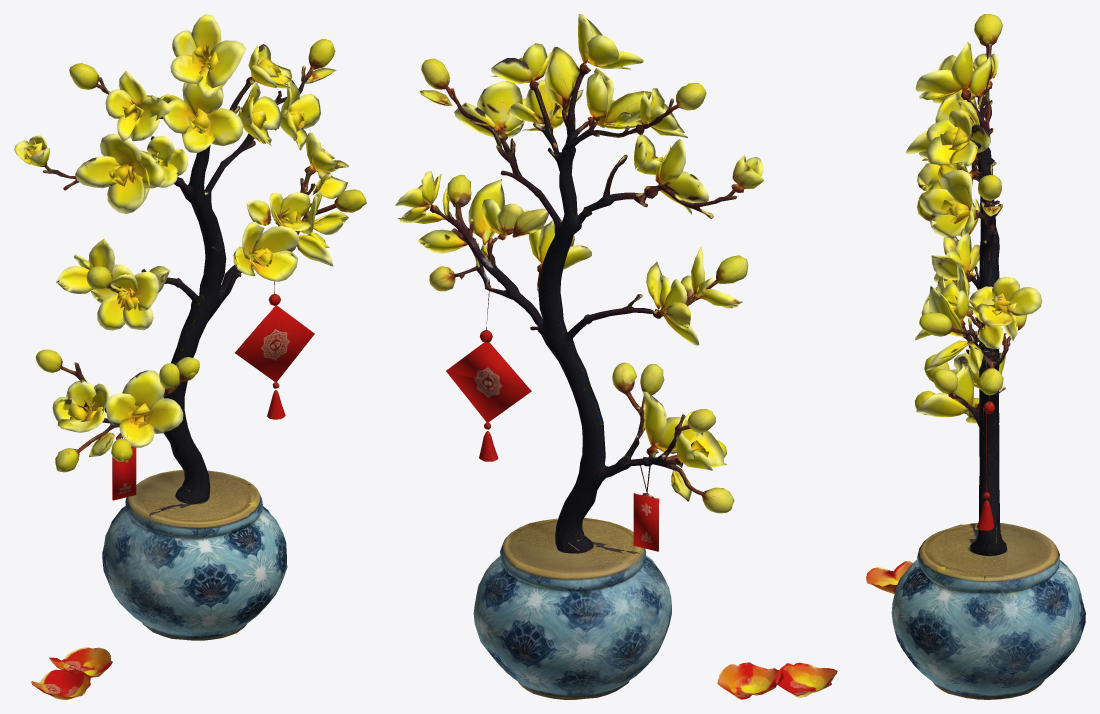
Rendered from caymai.glb.
3 views of the same model, side by side, from view 1: azimuth 30°, elevation 25°; view 2: azimuth 150°, elevation 25°; view 3: azimuth 270°, elevation 25° (orthographic). The views are drawn at different scales.
Size of the model in its own units: 0.5869 by 0.9521 by 0.2974.
Materials: 1 (1 with a texture image).
